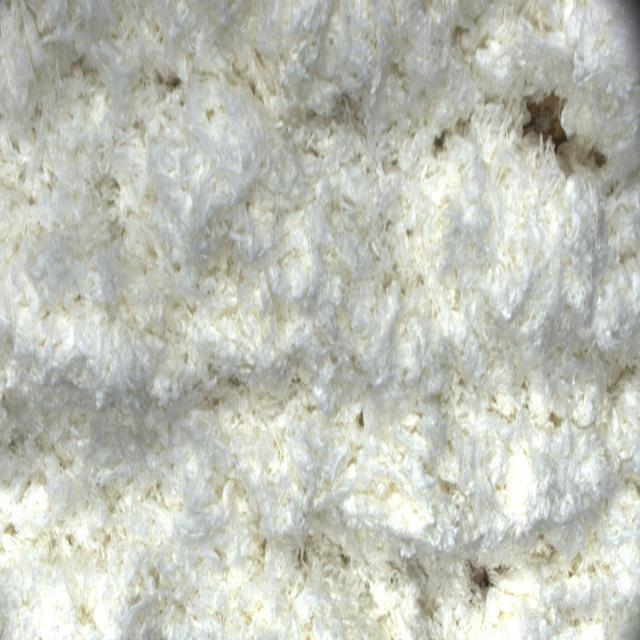dust: (515, 89, 585, 162)
